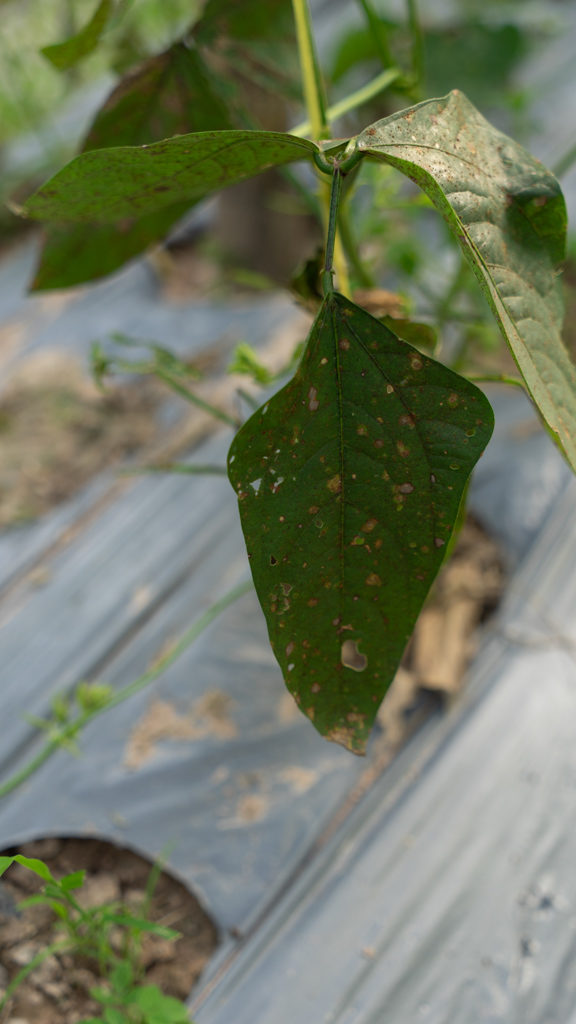Rust: (259, 322, 465, 741), (396, 94, 570, 449), (32, 113, 321, 222)
